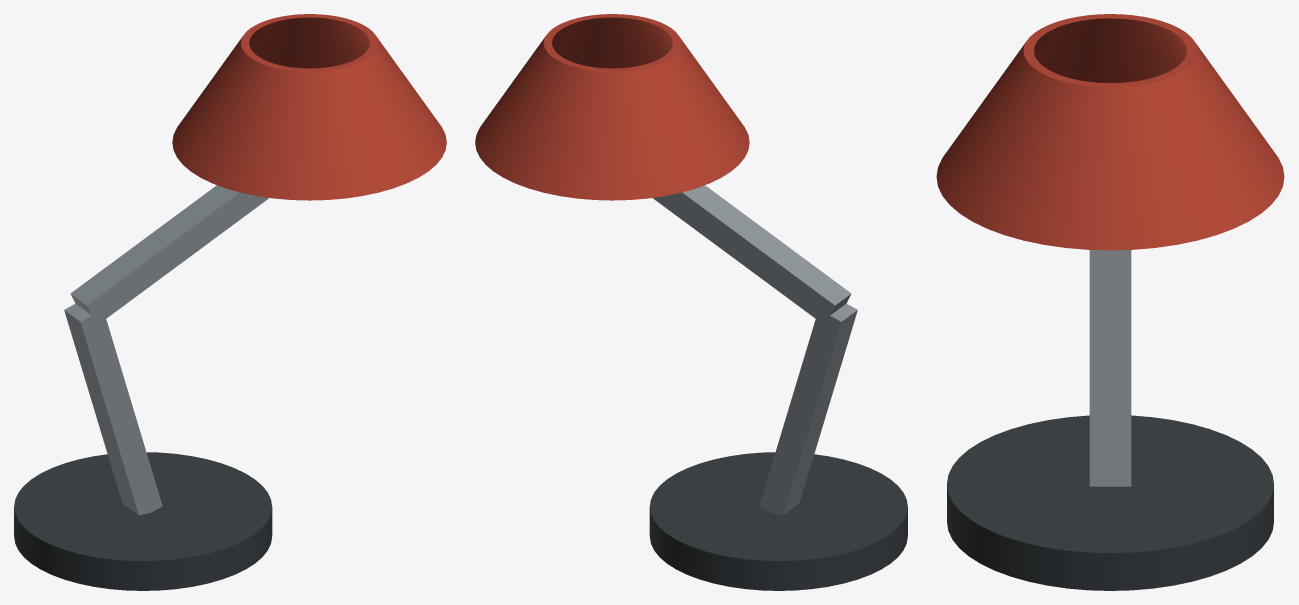
The model's file is desk_lamp.glb.
3 renders of one model, left to right at view 1: azimuth 30°, elevation 25°; view 2: azimuth 150°, elevation 25°; view 3: azimuth 270°, elevation 25°, orthographic. The views are drawn at different scales.
Visible parts, largest first — view 1: shade:shade, base:base, arm:arm; view 2: shade:shade, base:base, arm:arm; view 3: shade:shade, base:base, arm:arm.
Boxes of the visible parts, box(x1,y1,x2,y2) form: shade:shade: box(172, 14, 446, 200); base:base: box(14, 452, 272, 590); arm:arm: box(64, 185, 268, 515); shade:shade: box(475, 14, 749, 200); base:base: box(649, 452, 907, 590); arm:arm: box(653, 185, 857, 515); shade:shade: box(936, 14, 1284, 250); base:base: box(947, 415, 1273, 590); arm:arm: box(1089, 250, 1131, 486).
Bounding box in the file's own units: 0.167 × 0.182 × 0.1.
